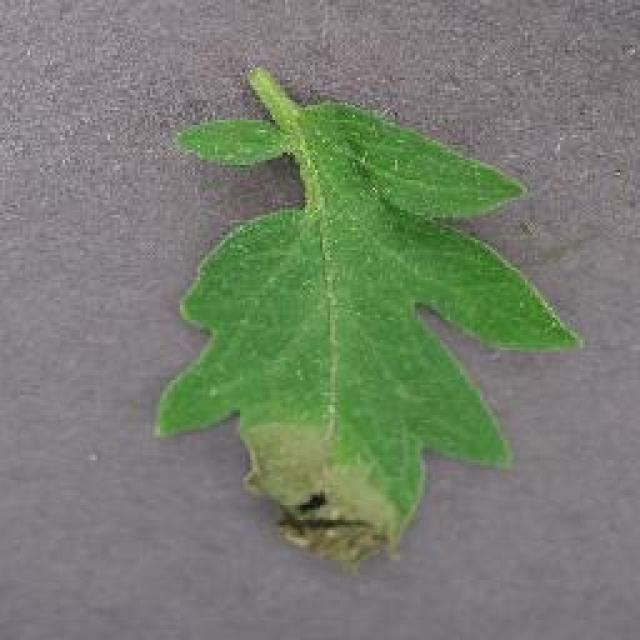Tomato___Late_blight: (152, 68, 585, 575)
